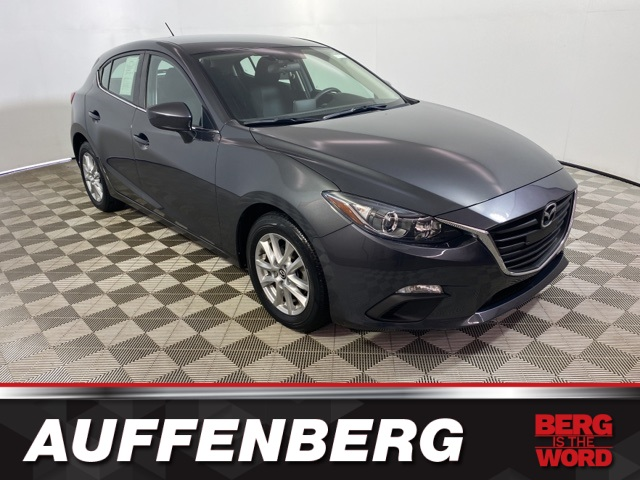Mazda3 Hatchback: (68, 32, 579, 334)
